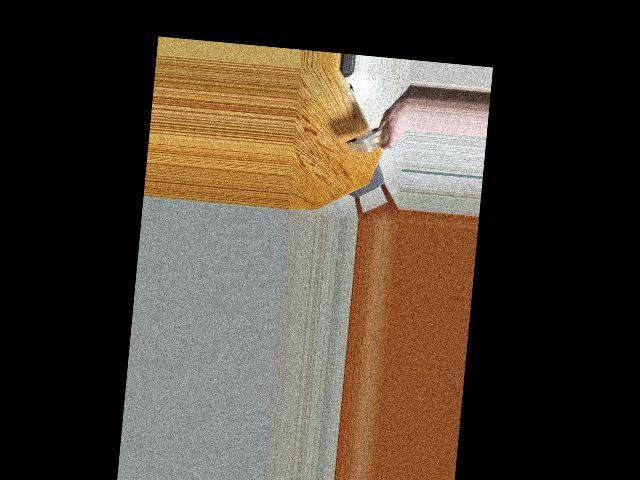cheese: (346, 125, 391, 156)
